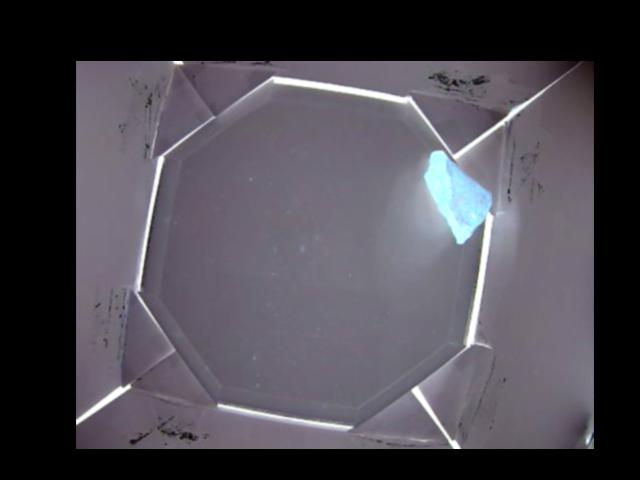Brisk: (424, 150, 491, 241)
